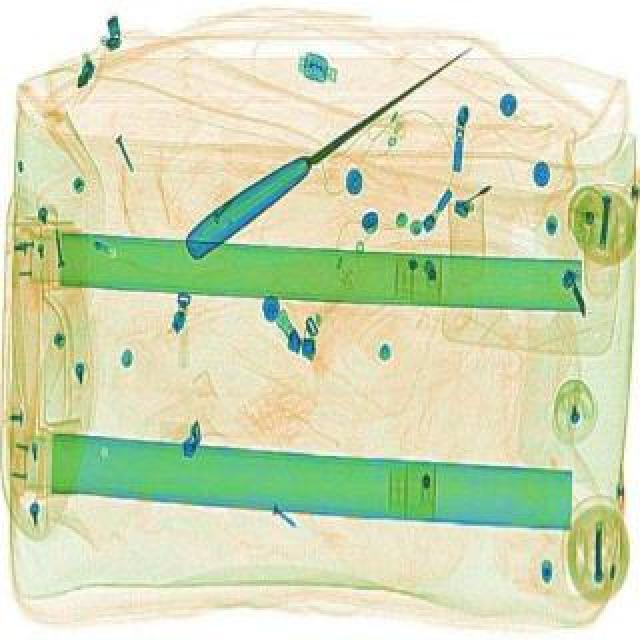knife: (176, 40, 484, 266)
